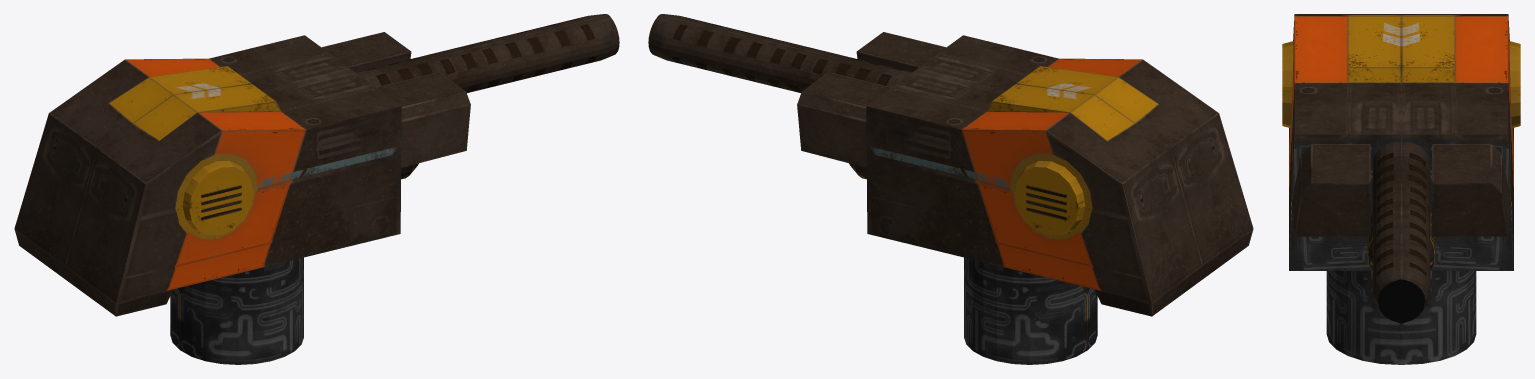
The model's file is turret2.glb.
3 renders of one model, left to right at view 1: azimuth 30°, elevation 25°; view 2: azimuth 150°, elevation 25°; view 3: azimuth 270°, elevation 25°, orthographic. The views are drawn at different scales.
Visible parts, largest first — view 1: Cube.001; view 2: Cube.001; view 3: Cube.001.
Part boxes in pixels (<box>): Cube.001: <box>14,14,619,364</box>; Cube.001: <box>648,14,1253,364</box>; Cube.001: <box>1282,14,1520,364</box>.
Bounding box in the file's own units: 4.75 × 2.15 × 1.64.
1 material, 1 textured.
